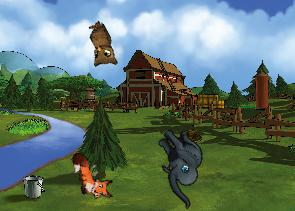elephant: (136, 121, 225, 209)
fox: (69, 146, 116, 205)
owl: (76, 19, 122, 73)
